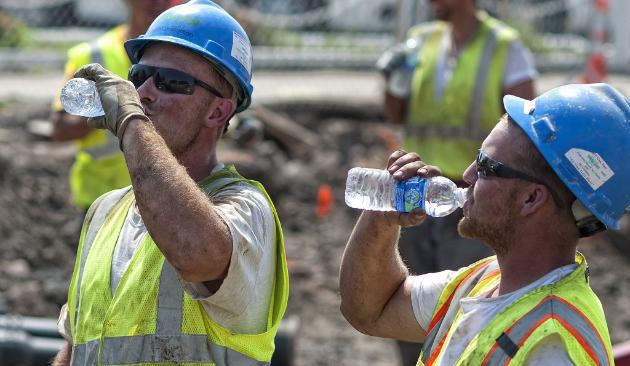casco: (501, 81, 630, 235), (123, 1, 255, 115)
